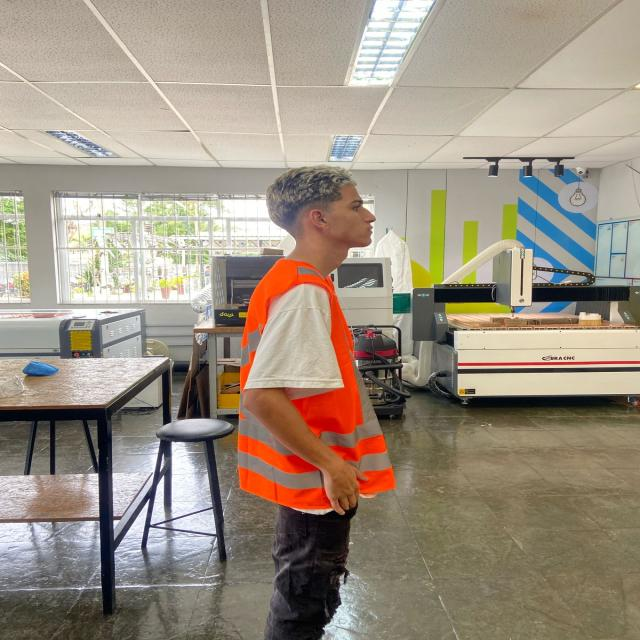COLETE: (237, 258, 396, 511)
SEM LUVA: (321, 462, 370, 517)
